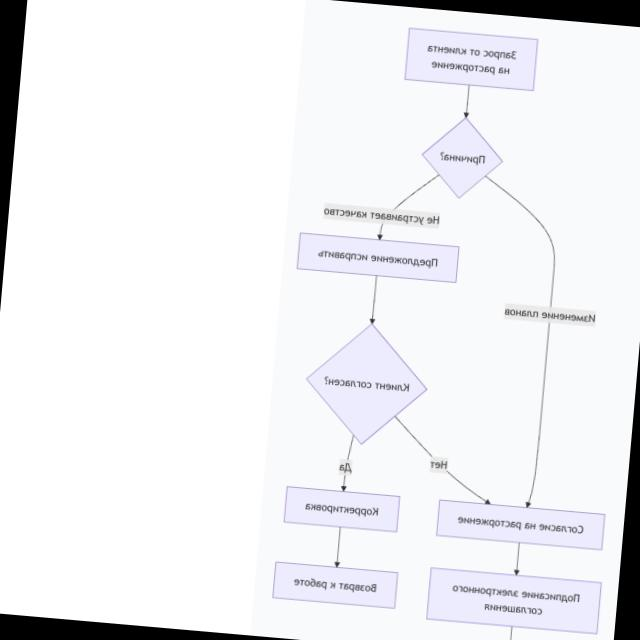arrow: (456, 173, 596, 510), (388, 415, 497, 505), (373, 168, 442, 245), (364, 272, 386, 326), (340, 435, 353, 492), (332, 527, 344, 568), (461, 84, 474, 118), (512, 542, 523, 575), (503, 625, 517, 640)
diamond: (305, 323, 427, 445), (420, 116, 502, 198)
rectangle: (426, 567, 601, 634), (403, 28, 537, 92), (436, 500, 604, 550), (296, 233, 458, 282), (272, 562, 397, 608), (283, 487, 400, 532)
text_region: (320, 205, 441, 230), (503, 304, 597, 327), (429, 456, 448, 472), (338, 460, 353, 475)
